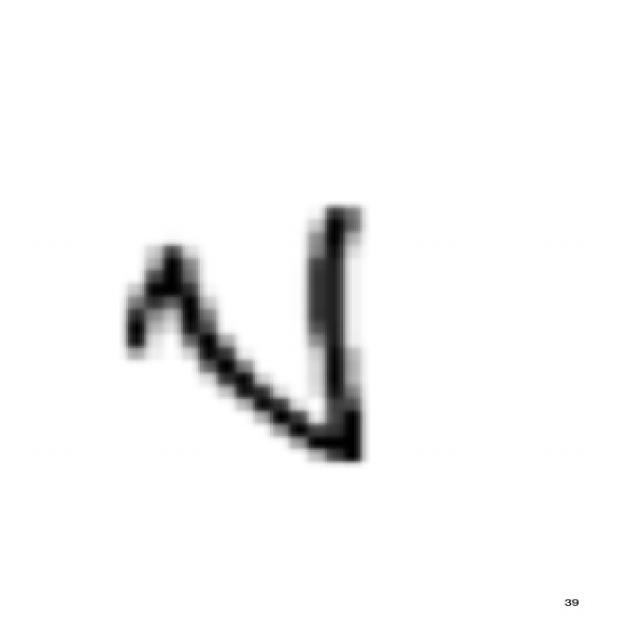-: (406, 506, 407, 508)
7 -seven-: (102, 194, 408, 477)
